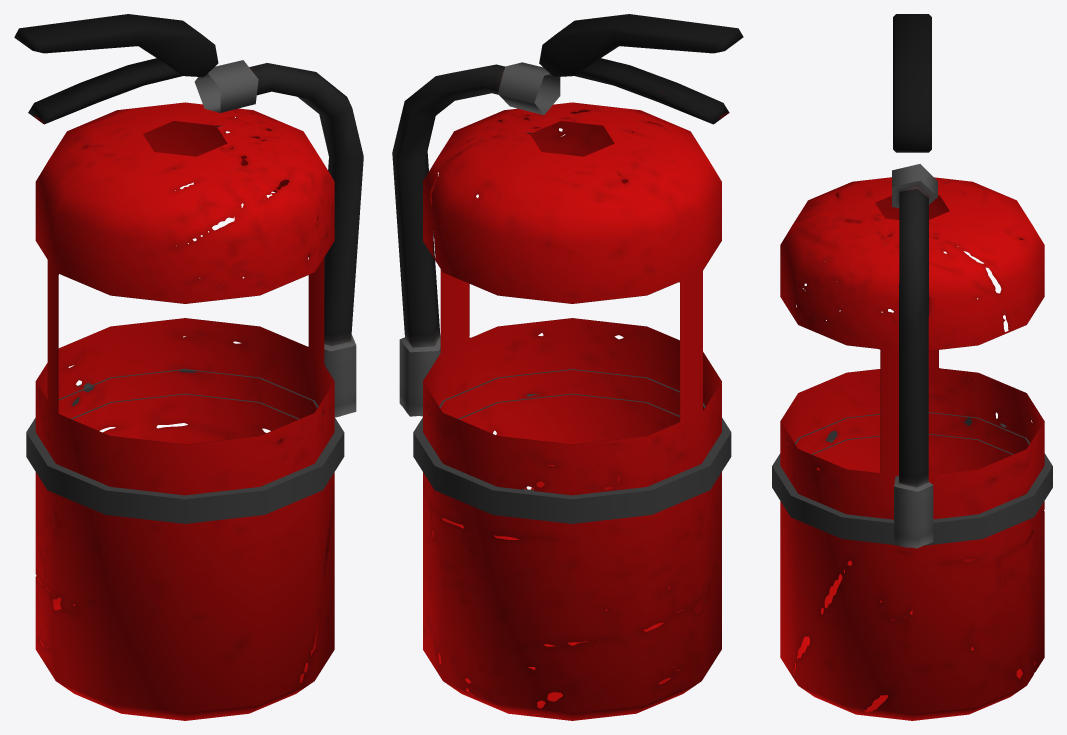
Rendered from fire_extinguisher_large.fbx.
3 renders of one model, left to right at view 1: azimuth 30°, elevation 25°; view 2: azimuth 150°, elevation 25°; view 3: azimuth 270°, elevation 25°, orthographic. The views are drawn at different scales.
Visible parts, largest first — view 1: fire_extinguisher_large; view 2: fire_extinguisher_large; view 3: fire_extinguisher_large.
Part boxes in pixels (x1,y1,x2,y2): fire_extinguisher_large: (14,14,363,720); fire_extinguisher_large: (392,14,743,720); fire_extinguisher_large: (772,14,1052,720).
Bounding box in the file's own units: 53.84 × 101 × 43.65.
